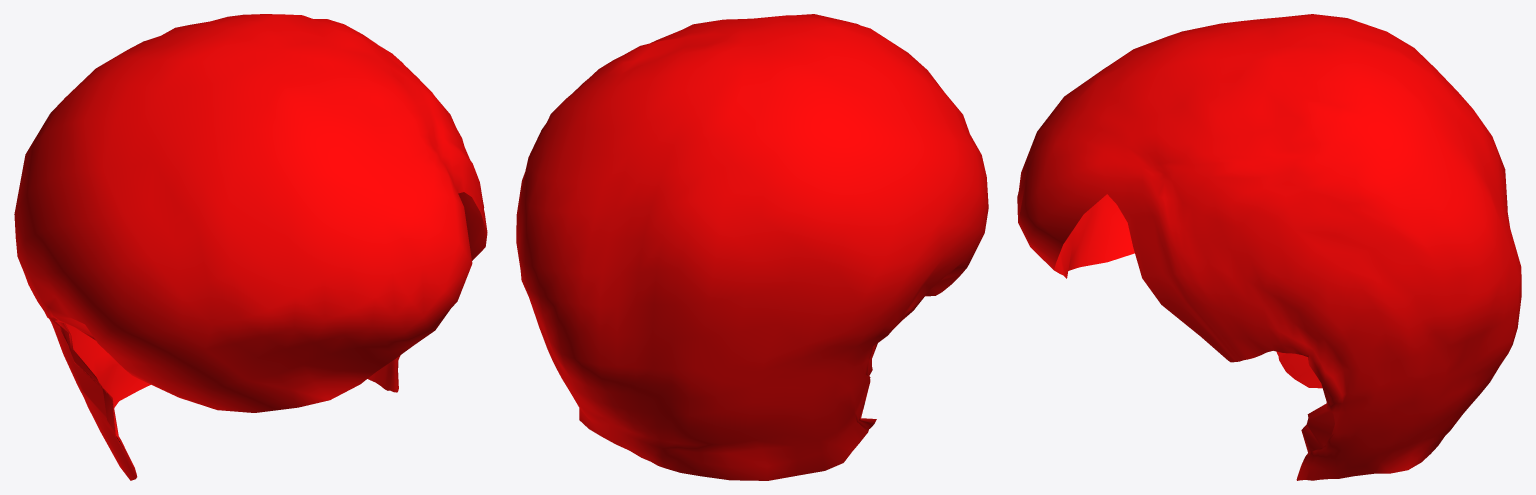
File: short03_F.glb
3 views of the same model, side by side, from view 1: azimuth 30°, elevation 25°; view 2: azimuth 150°, elevation 25°; view 3: azimuth 270°, elevation 25° (orthographic). The views are drawn at different scales.
Size of the model in its own units: 0.1951 by 0.189 by 0.2169.
Materials: 1 (1 with a texture image).
